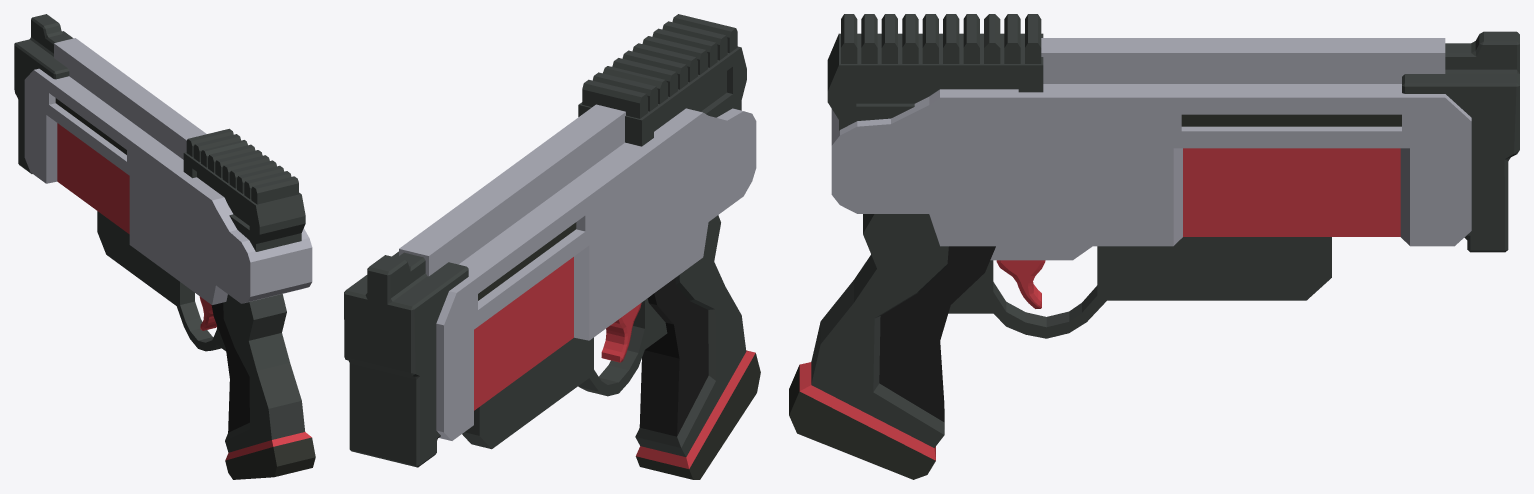
The model's file is quaternius-sci-fi-gun-pistol.glb.
The picture shows the model from 3 angles, left to right: view 1: azimuth 30°, elevation 25°; view 2: azimuth 150°, elevation 25°; view 3: azimuth 270°, elevation 25°; orthographic projection. The views are drawn at different scales.
Parts seen in each view (by area): view 1: Pistol; view 2: Pistol; view 3: Pistol.
Part boxes in pixels (bbox=[...]): Pistol: bbox=[14, 14, 315, 479]; Pistol: bbox=[344, 14, 760, 479]; Pistol: bbox=[789, 14, 1519, 479].
Bounding box in the file's own units: 0.3814 × 1.82 × 2.75.
1 material, 1 textured.
